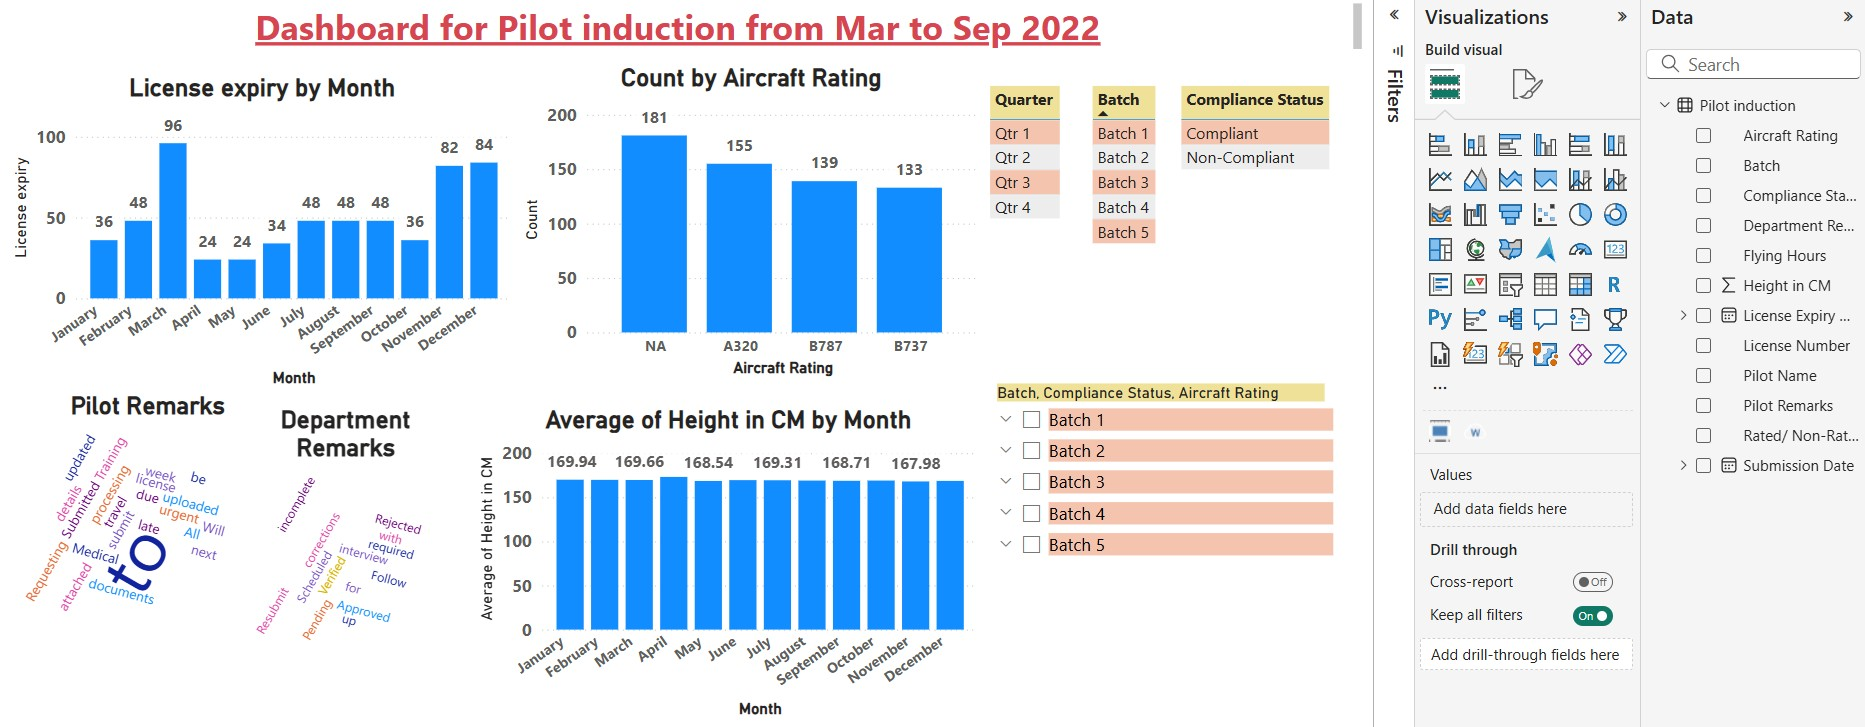

The page's visual inventory and layout, read from the dashboard file:
{"tool":"powerbi","page":{"name":"Page 2","canvas":[1280,720],"ordinal":1},"visuals":[{"type":"lineClusteredColumnComboChart","fields":{"Category":["export?format=csv&id=1RSt7JTLuaaMvQIgaXB1fvxA7Anrv1DO8XRaBTItq9nI&gid=177511 (2).License Expiry Date.Variation.Date Hier"],"Y":["CountNonNull(export?format=csv&id=1RSt7JTLuaaMvQIgaXB1fvxA7Anrv1DO8XRaBTItq9nI&gid=177511 (2).License Expiry Date)"]},"box":[9.6,75.5,474.8,296.4],"z":0},{"type":"slicer","fields":{"Values":["export?format=csv&id=1RSt7JTLuaaMvQIgaXB1fvxA7Anrv1DO8XRaBTItq9nI&gid=177511 (2).Batch","export?format=csv&id=1RSt7JTLuaaMvQIgaXB1fvxA7Anrv1DO8XRaBTItq9nI&gid=177511 (2).Compliance Status","export?format=csv&id=1RSt7JTLuaaMvQIgaXB1fvxA7Anrv1DO8XRaBTItq9nI&gid=177511 (2).Aircraft Rating"]},"box":[918,359.5,330.7,226.4],"z":1000},{"type":"textbox","box":[0,5.5,1274.8,60.4],"z":2000},{"type":"tableEx","fields":{"Values":["export?format=csv&id=1RSt7JTLuaaMvQIgaXB1fvxA7Anrv1DO8XRaBTItq9nI&gid=177511 (2).Compliance Status"]},"box":[1095,82.9,174.3,104.3],"z":3000},{"type":"tableEx","fields":{"Values":["export?format=csv&id=1RSt7JTLuaaMvQIgaXB1fvxA7Anrv1DO8XRaBTItq9nI&gid=177511 (2).Batch"]},"box":[1012.7,82.9,87.8,168.8],"z":4000},{"type":"tableEx","fields":{"Values":["export?format=csv&id=1RSt7JTLuaaMvQIgaXB1fvxA7Anrv1DO8XRaBTItq9nI&gid=177511 (2).Submission Date.Variation.Date Hierarch"]},"box":[918,82.9,94.7,152.3],"z":5000},{"type":"WordCloud1447959067750","fields":{"Category":["export?format=csv&id=1RSt7JTLuaaMvQIgaXB1fvxA7Anrv1DO8XRaBTItq9nI&gid=177511 (2).Pilot Remarks"]},"box":[9.6,370.5,262.1,247],"z":6000},{"type":"WordCloud1447959067750","fields":{"Category":["export?format=csv&id=1RSt7JTLuaaMvQIgaXB1fvxA7Anrv1DO8XRaBTItq9nI&gid=177511 (2).Department Remarks"]},"box":[222.1,383.7,204.7,247.7],"z":7000},{"type":"lineClusteredColumnComboChart","fields":{"Category":["export?format=csv&id=1RSt7JTLuaaMvQIgaXB1fvxA7Anrv1DO8XRaBTItq9nI&gid=177511 (2).Aircraft Rating"],"Y":["CountNonNull(export?format=csv&id=1RSt7JTLuaaMvQIgaXB1fvxA7Anrv1DO8XRaBTItq9nI&gid=177511 (2).Aircraft Rating)"]},"box":[484.4,65.9,433.6,296.4],"z":8000},{"type":"lineClusteredColumnComboChart","fields":{"Category":["export?format=csv&id=1RSt7JTLuaaMvQIgaXB1fvxA7Anrv1DO8XRaBTItq9nI&gid=177511 (2).License Expiry Date.Variation.Date Hier"],"Y":["Avg(export?format=csv&id=1RSt7JTLuaaMvQIgaXB1fvxA7Anrv1DO8XRaBTItq9nI&gid=177511 (2).Height in CM)"]},"box":[443.2,384.2,474.8,296.4],"z":8001},{"type":"tableEx","fields":{"Values":["export?format=csv&id=1RSt7JTLuaaMvQIgaXB1fvxA7Anrv1DO8XRaBTItq9nI&gid=177511 (2).Aircraft Rating"]},"box":[1100.5,186.6,148.2,152.3],"z":8002}]}

Visuals, with their boxes on the page's 1280x720 design canvas (x1, y1, x2, y2). These are canvas units, not pixel positions in the 1865x727 screenshot, which may show the page scaled, cropped or inside an application window:
lineClusteredColumnComboChart - export?format=csv&id=1RSt7JTLuaaMvQIgaXB1fvxA7Anrv1DO8XRaBTItq9nI&gid=177511 (2).License Expiry Date.Variation.Date Hier x CountNonNull(export?format=csv&id=1RSt7JTLuaaMvQIgaXB1fvxA7Anrv1DO8XRaBTItq9nI&gid=177511 (2).License Expiry Date): 10 76 484 372
slicer - export?format=csv&id=1RSt7JTLuaaMvQIgaXB1fvxA7Anrv1DO8XRaBTItq9nI&gid=177511 (2).Batch x export?format=csv&id=1RSt7JTLuaaMvQIgaXB1fvxA7Anrv1DO8XRaBTItq9nI&gid=177511 (2).Compliance Status: 918 360 1249 586
textbox: 0 6 1275 66
tableEx - export?format=csv&id=1RSt7JTLuaaMvQIgaXB1fvxA7Anrv1DO8XRaBTItq9nI&gid=177511 (2).Compliance Status: 1095 83 1269 187
tableEx - export?format=csv&id=1RSt7JTLuaaMvQIgaXB1fvxA7Anrv1DO8XRaBTItq9nI&gid=177511 (2).Batch: 1013 83 1100 252
tableEx - export?format=csv&id=1RSt7JTLuaaMvQIgaXB1fvxA7Anrv1DO8XRaBTItq9nI&gid=177511 (2).Submission Date.Variation.Date Hierarch: 918 83 1013 235
WordCloud1447959067750 - export?format=csv&id=1RSt7JTLuaaMvQIgaXB1fvxA7Anrv1DO8XRaBTItq9nI&gid=177511 (2).Pilot Remarks: 10 370 272 618
WordCloud1447959067750 - export?format=csv&id=1RSt7JTLuaaMvQIgaXB1fvxA7Anrv1DO8XRaBTItq9nI&gid=177511 (2).Department Remarks: 222 384 427 631
lineClusteredColumnComboChart - export?format=csv&id=1RSt7JTLuaaMvQIgaXB1fvxA7Anrv1DO8XRaBTItq9nI&gid=177511 (2).Aircraft Rating x CountNonNull(export?format=csv&id=1RSt7JTLuaaMvQIgaXB1fvxA7Anrv1DO8XRaBTItq9nI&gid=177511 (2).Aircraft Rating): 484 66 918 362
lineClusteredColumnComboChart - export?format=csv&id=1RSt7JTLuaaMvQIgaXB1fvxA7Anrv1DO8XRaBTItq9nI&gid=177511 (2).License Expiry Date.Variation.Date Hier x Avg(export?format=csv&id=1RSt7JTLuaaMvQIgaXB1fvxA7Anrv1DO8XRaBTItq9nI&gid=177511 (2).Height in CM): 443 384 918 681
tableEx - export?format=csv&id=1RSt7JTLuaaMvQIgaXB1fvxA7Anrv1DO8XRaBTItq9nI&gid=177511 (2).Aircraft Rating: 1100 187 1249 339
